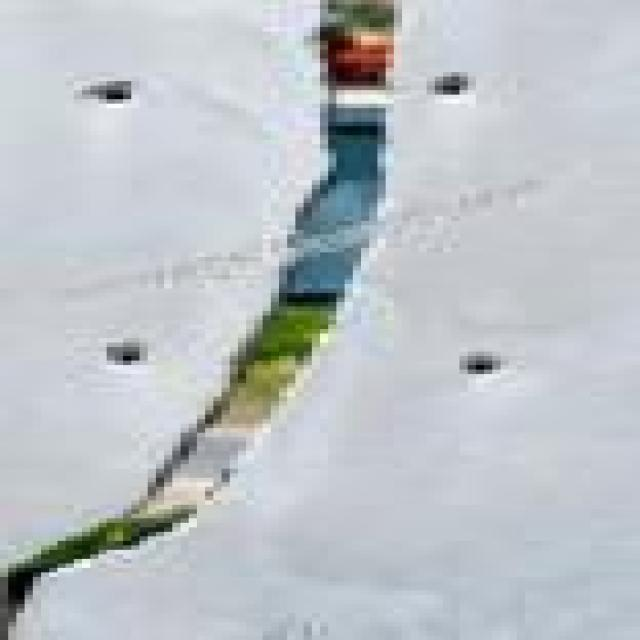Crack: (0, 327, 287, 624), (279, 0, 418, 437)
